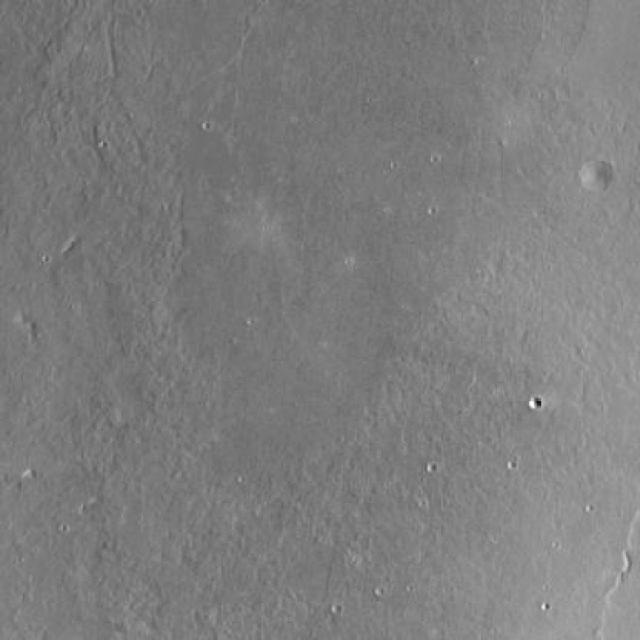crater: (570, 166, 595, 191)
